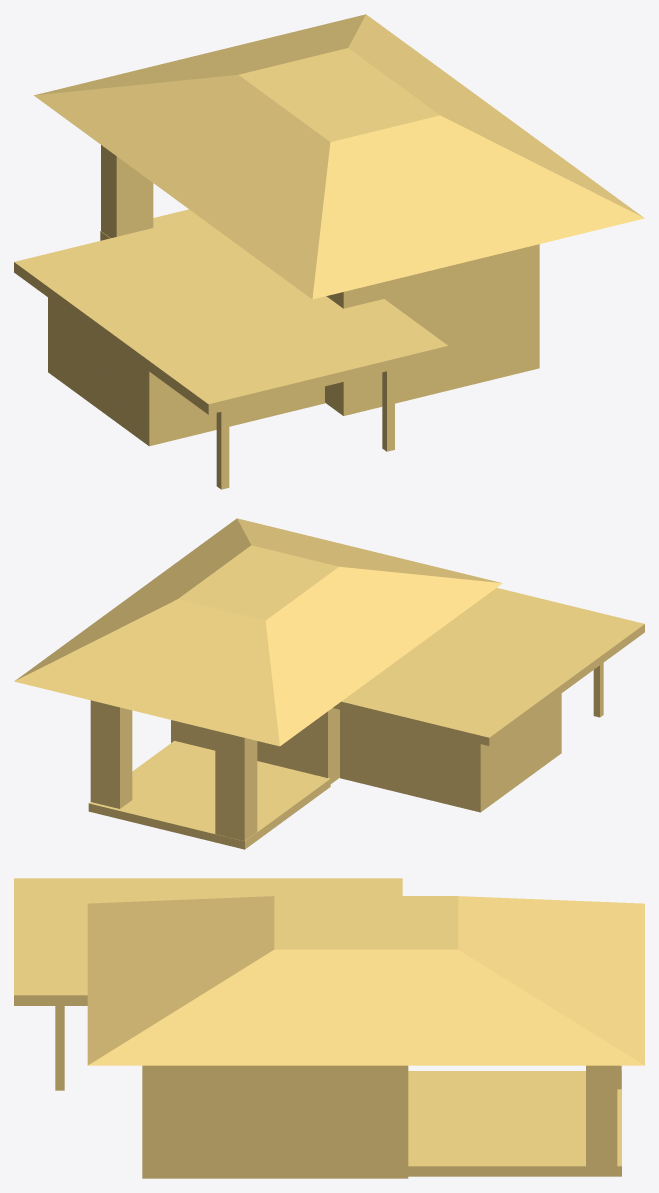
File: GuardHouseNav.glb
3 renders of one model, top to bottom at view 1: azimuth 30°, elevation 25°; view 2: azimuth 150°, elevation 25°; view 3: azimuth 270°, elevation 25°, orthographic. The views are drawn at different scales.
Visible parts, largest first — view 1: Cube.001, Cube.006, Cube, Cube.005, Cube.003, Cube.007, Cube.008; view 2: Cube.001, Cube.006, Cube.005, Cube.002, Cube, Cube.003, Cube.004, Cube.007; view 3: Cube.001, Cube, Cube.002, Cube.006, Cube.004, Cube.008.
Part boxes in pixels (x1,y1,x2,y2): Cube.001: (34,14,644,299); Cube.006: (14,217,448,414); Cube: (325,244,539,415); Cube.005: (48,297,324,446); Cube.003: (101,145,153,237); Cube.007: (216,410,229,489); Cube.008: (382,369,394,451); Cube.001: (14,518,502,746); Cube.006: (333,588,644,745); Cube.005: (340,693,561,812); Cube.002: (88,741,330,849); Cube: (171,708,339,783); Cube.003: (215,730,257,841); Cube.004: (90,700,132,808); Cube.007: (593,663,603,717); Cube.001: (87,896,644,1065); Cube: (142,1065,408,1178); Cube.002: (408,1071,621,1176); Cube.006: (14,878,402,1005); Cube.004: (586,1065,617,1166); Cube.008: (55,1006,64,1090).
Bounding box in the file's own units: 11.67 × 5.1 × 13.48.
